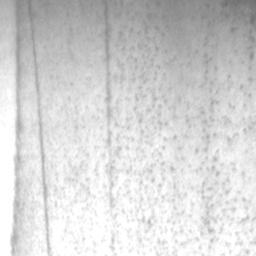Pitted surface: (10, 36, 256, 256), (227, 116, 256, 146), (105, 28, 110, 68), (250, 37, 255, 60)
